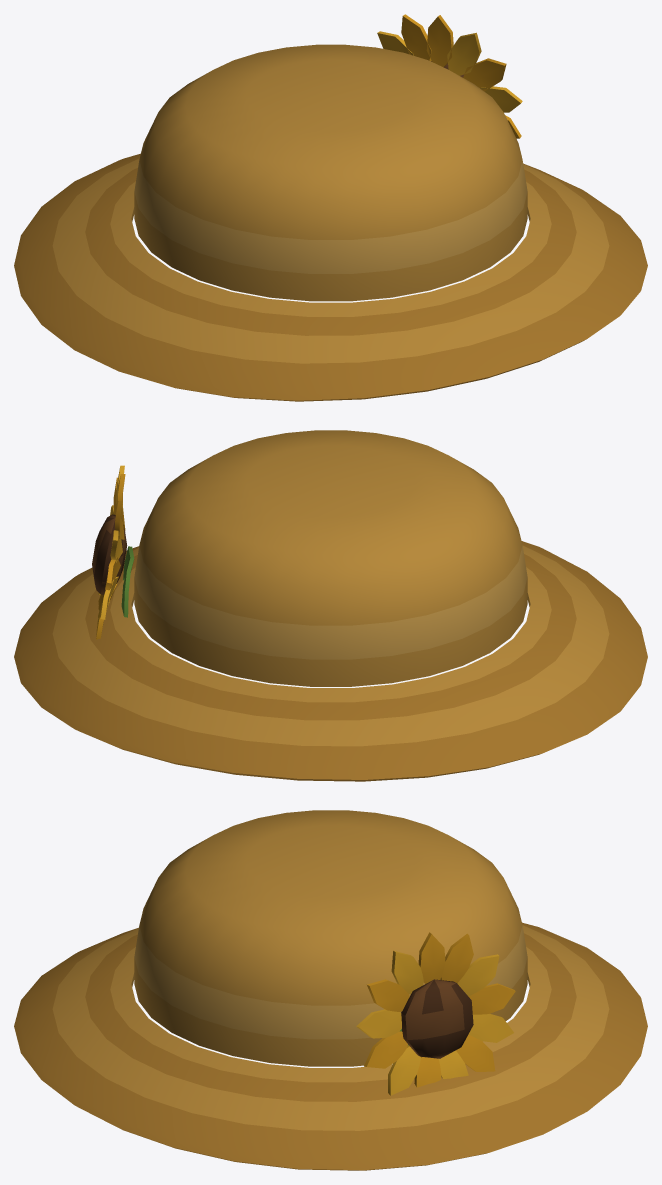
The model's file is cos_h_sunhat.glb.
The picture shows the model from 3 angles, top to bottom: view 1: azimuth 30°, elevation 25°; view 2: azimuth 150°, elevation 25°; view 3: azimuth 270°, elevation 25°; orthographic projection.
Visible parts, largest first — view 1: h_sunhat; view 2: h_sunhat; view 3: h_sunhat.
Boxes of the visible parts, bbox=[...] form: h_sunhat: bbox=[14, 14, 647, 401]; h_sunhat: bbox=[14, 430, 647, 781]; h_sunhat: bbox=[14, 810, 647, 1170].
Bounding box in the file's own units: 1.26 × 0.4059 × 1.26.
